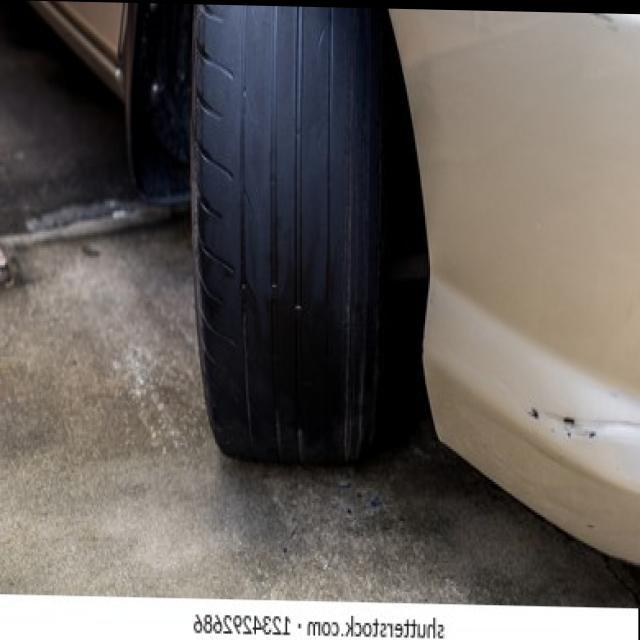Flat spots: (215, 0, 364, 449)
